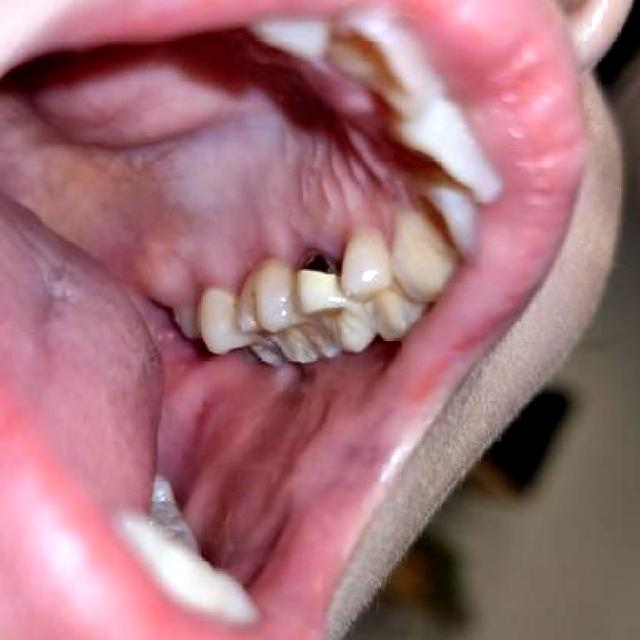Plaque: (349, 273, 409, 317), (244, 282, 269, 325), (226, 292, 243, 318)
